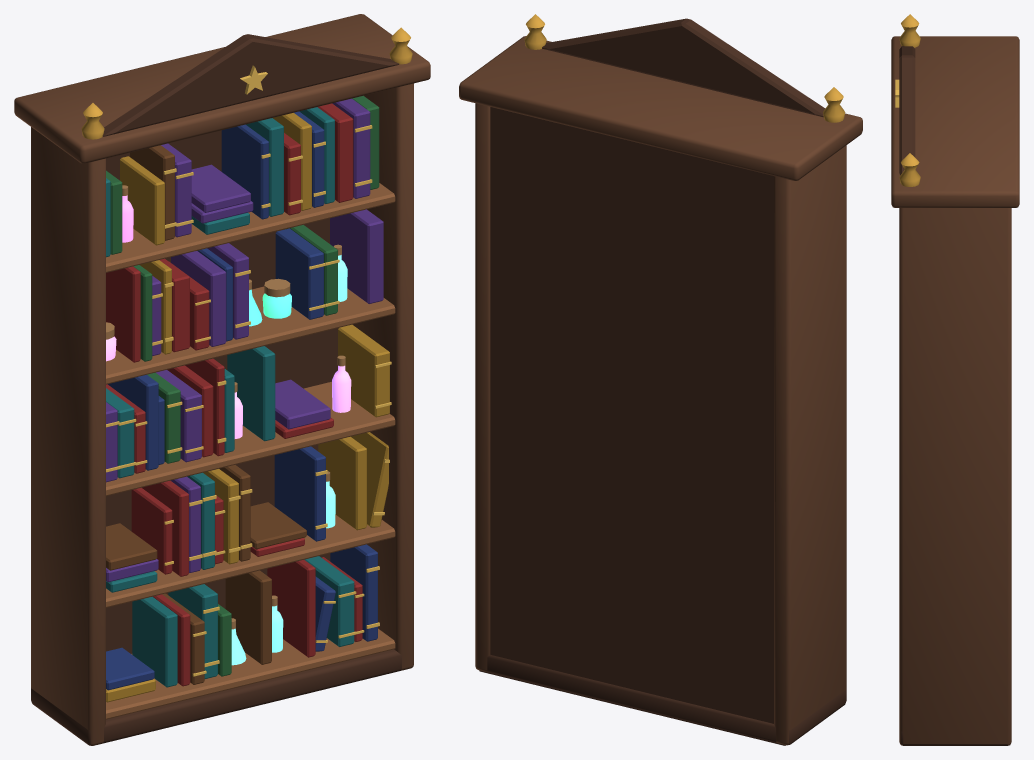
Rendered from magic_bookcase.glb.
3 views of the same model, side by side, from view 1: azimuth 30°, elevation 25°; view 2: azimuth 150°, elevation 25°; view 3: azimuth 270°, elevation 25° (orthographic). The views are drawn at different scales.
Visible parts, largest first — view 1: magic_bookcase; view 2: magic_bookcase; view 3: magic_bookcase.
Boxes of the visible parts, box(x1,y1,x2,y2) form: magic_bookcase: box(14, 14, 430, 745); magic_bookcase: box(459, 14, 862, 745); magic_bookcase: box(891, 14, 1019, 745).
Bounding box in the file's own units: 1.4 × 2.55 × 0.48.
